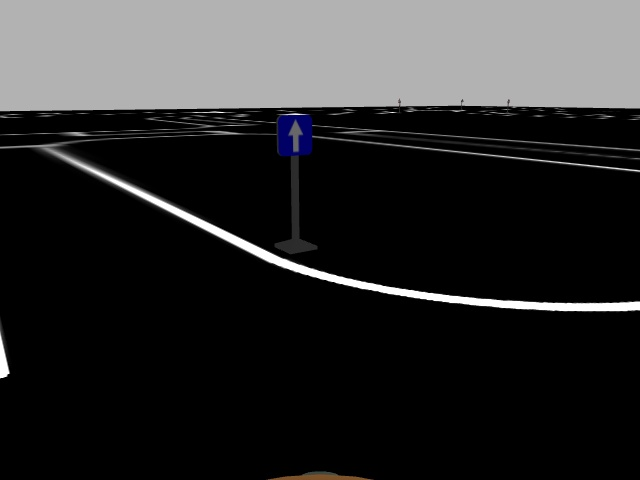oneway: (275, 110, 316, 160)
